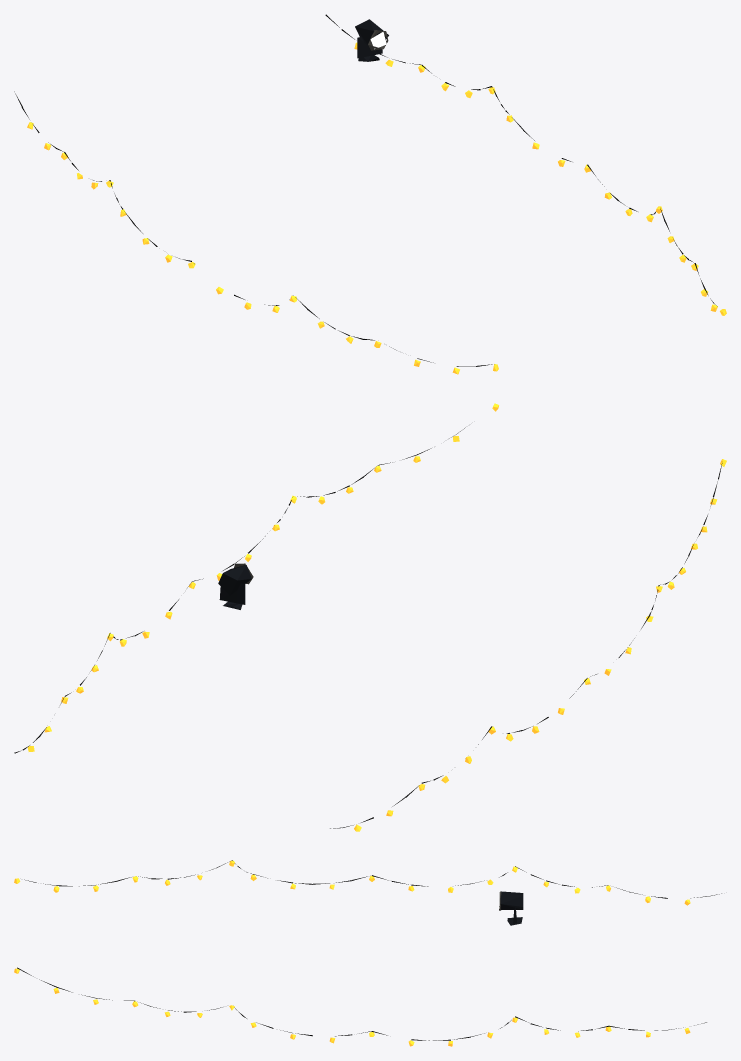
File: tb_upg_deck_lights.three-web-toon.lod25.glb
3 renders of one model, top to bottom at view 1: azimuth 30°, elevation 25°; view 2: azimuth 150°, elevation 25°; view 3: azimuth 270°, elevation 25°, orthographic. The views are drawn at different scales.
Parts seen in each view (by area): view 1: deck_lights_strings_lod, deck_spotlight_lod; view 2: deck_lights_strings_lod, deck_spotlight_lod; view 3: deck_lights_strings_lod, deck_spotlight_lod.
Boxes of the visible parts, box(x1,y1,x2,y2) form: deck_lights_strings_lod: box(14, 14, 726, 374); deck_spotlight_lod: box(355, 19, 388, 61); deck_lights_strings_lod: box(14, 403, 726, 831); deck_spotlight_lod: box(218, 563, 253, 609); deck_lights_strings_lod: box(14, 860, 721, 1046); deck_spotlight_lod: box(498, 891, 523, 925).
Size of the model in its own units: 3.65 by 1.12 by 6.95.
